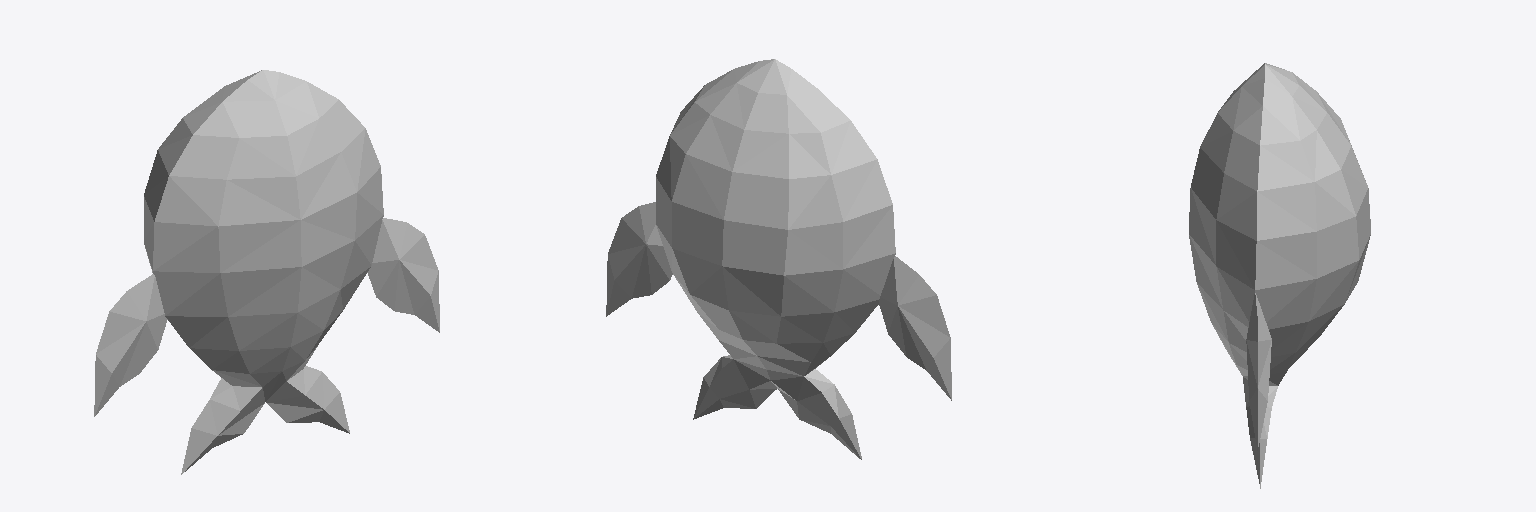
Rendered from Surfing.obj.
3 renders of one model, left to right at view 1: azimuth 30°, elevation 25°; view 2: azimuth 150°, elevation 25°; view 3: azimuth 270°, elevation 25°, orthographic.
Visible parts, largest first — view 1: Surf_model; view 2: Surf_model; view 3: Surf_model.
Part boxes in pixels (left/top/right/bottom): Surf_model: left=94, top=70, right=439, bottom=474; Surf_model: left=606, top=59, right=951, bottom=459; Surf_model: left=1189, top=63, right=1370, bottom=488.
Bounding box in the file's own units: 0.7837 × 0.8299 × 0.3586.